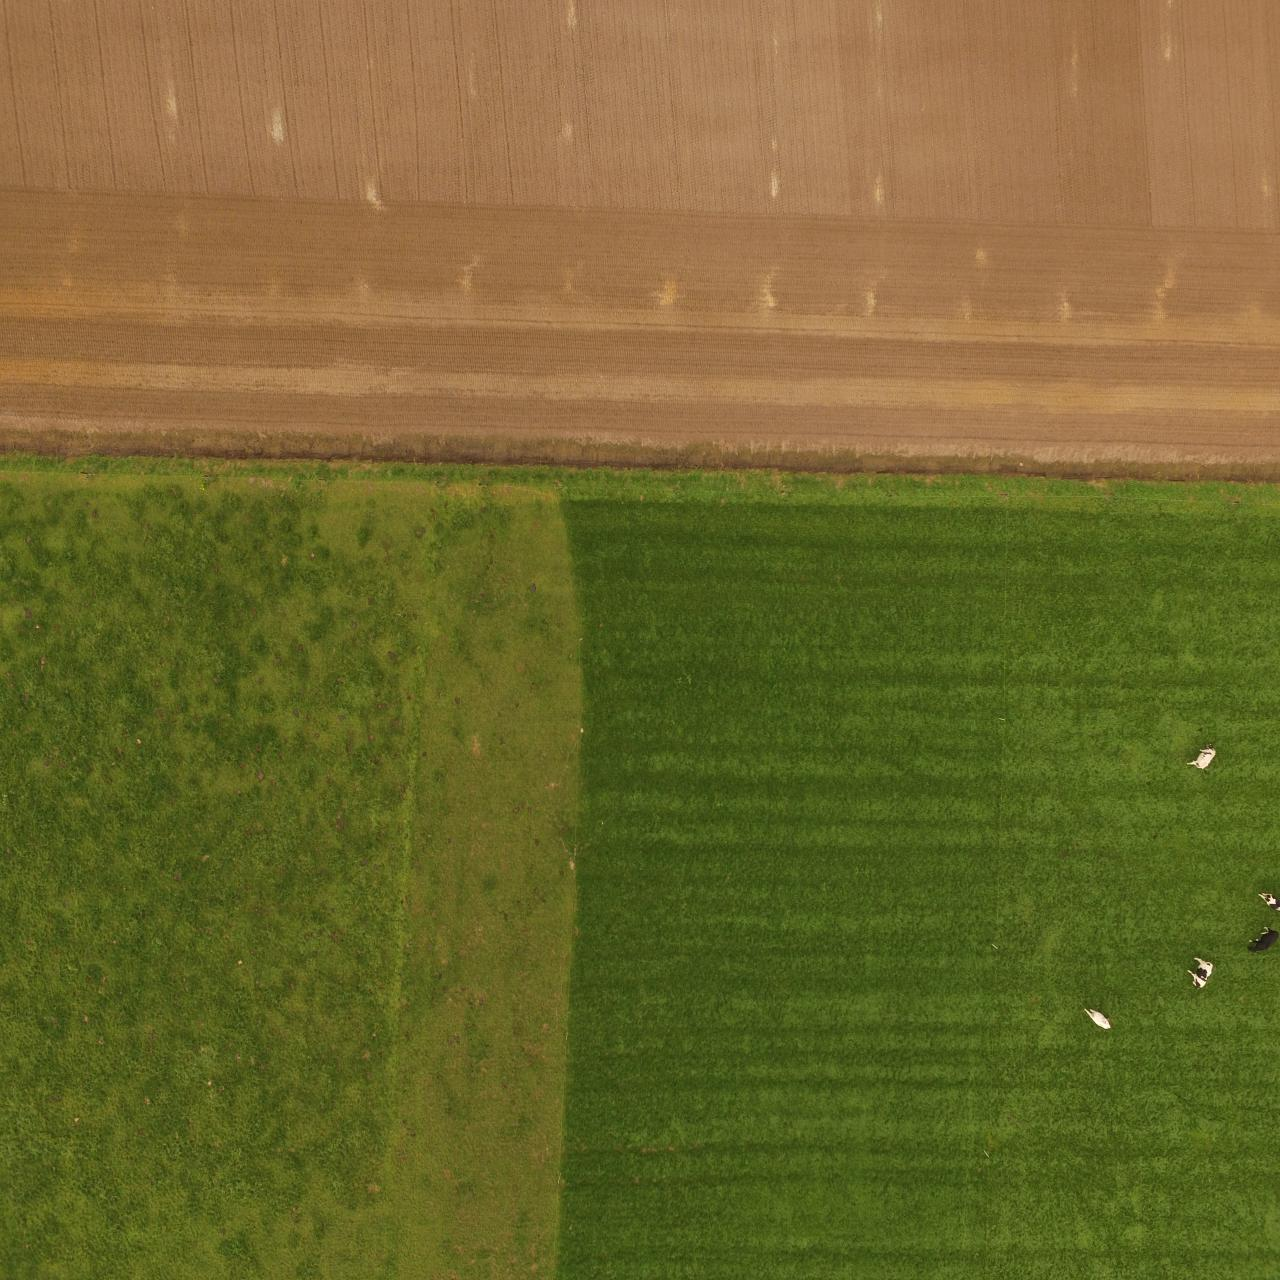cow: (1242, 926, 1279, 956), (1187, 741, 1216, 774), (1191, 956, 1214, 989), (1081, 1007, 1111, 1032)
